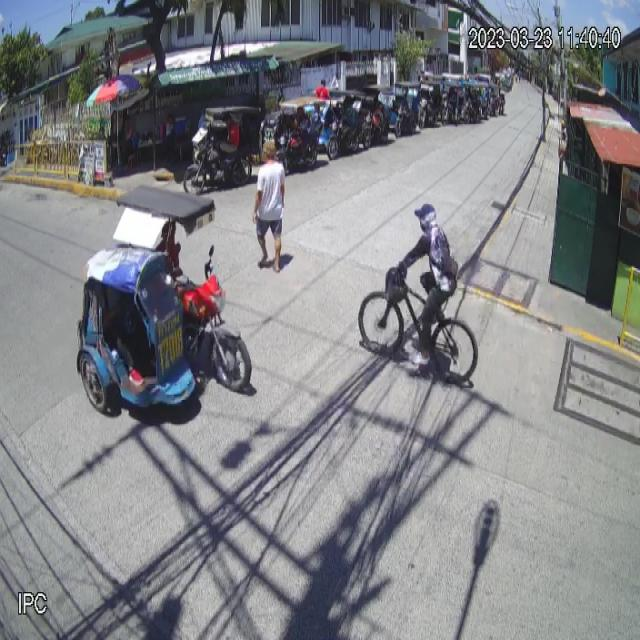Tricycle: (76, 185, 254, 418)
